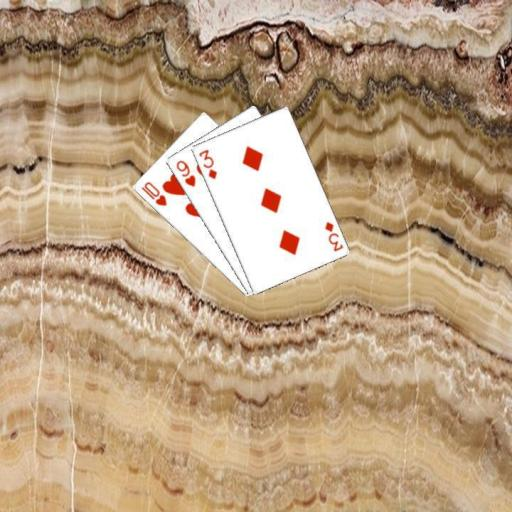card-corner: (138, 178, 168, 208), (322, 218, 344, 253), (173, 157, 197, 189), (196, 146, 218, 180)
